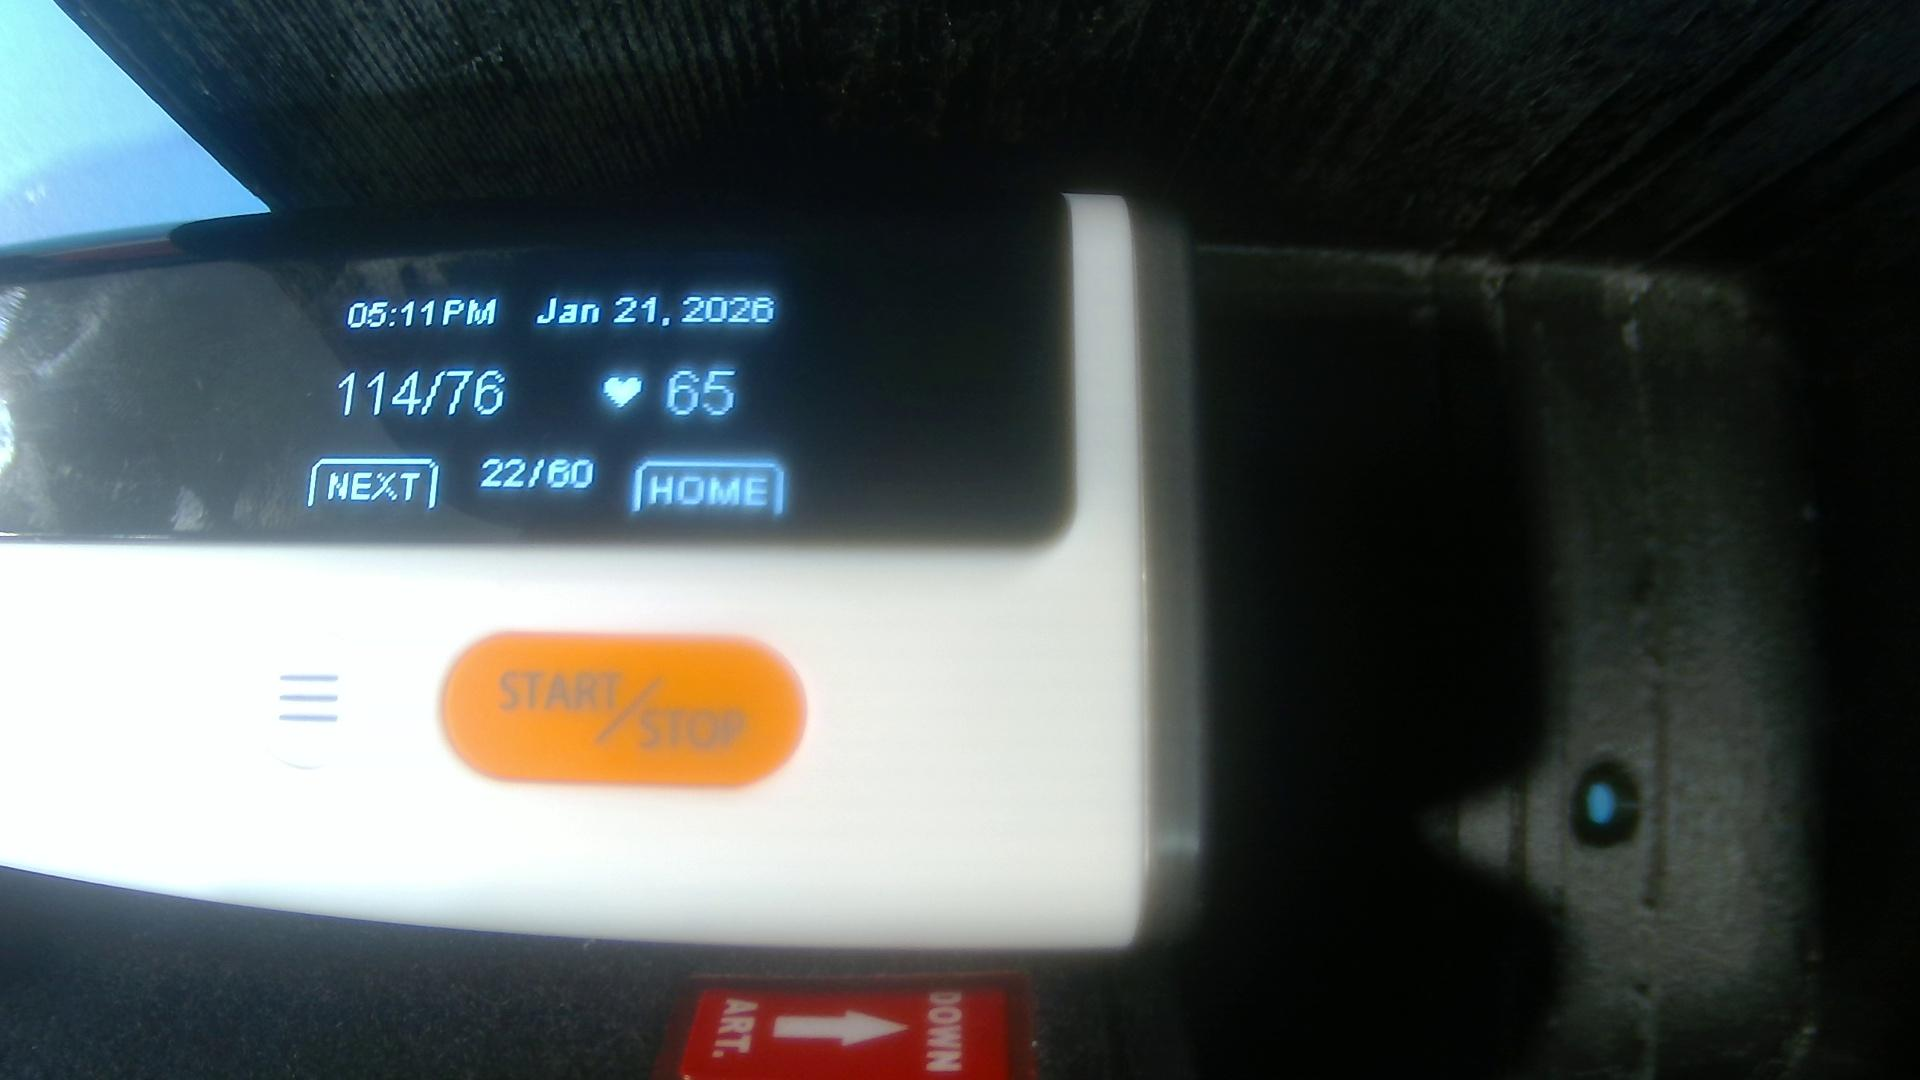DISPLAY: (11, 199, 1052, 537)
